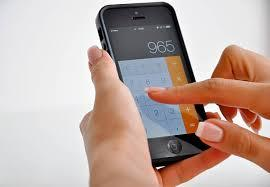Calculator: (111, 35, 215, 141)
